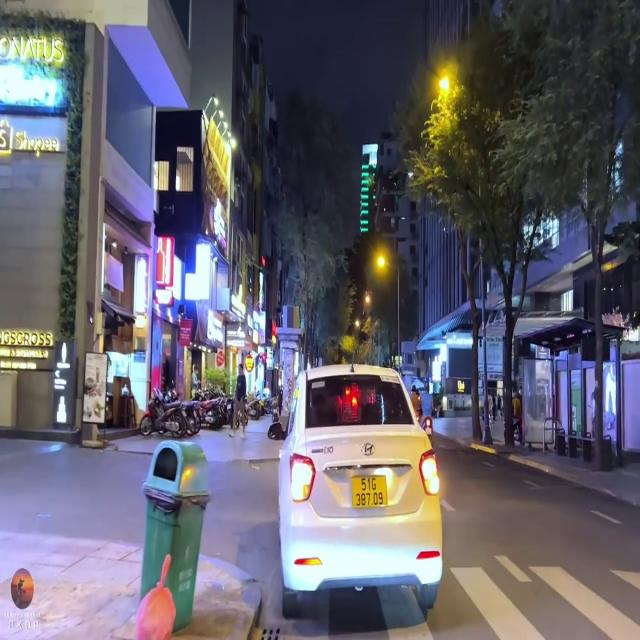bien_vang: (346, 465, 391, 516)
